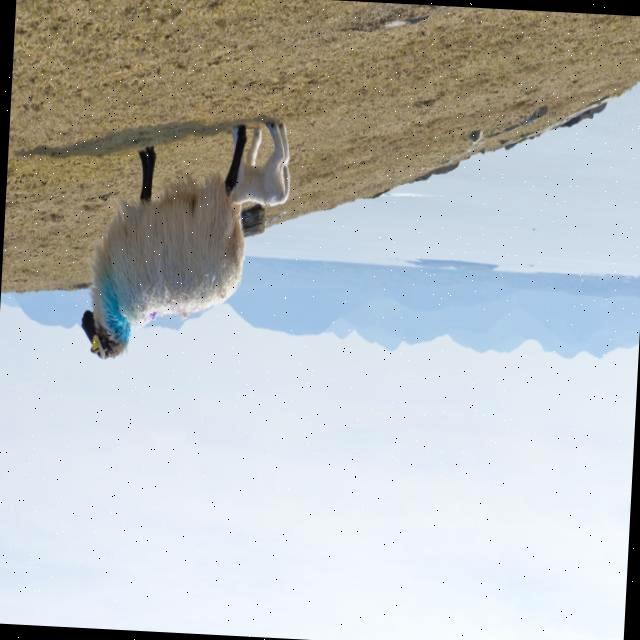sheep: (82, 131, 246, 358), (235, 123, 289, 206)
